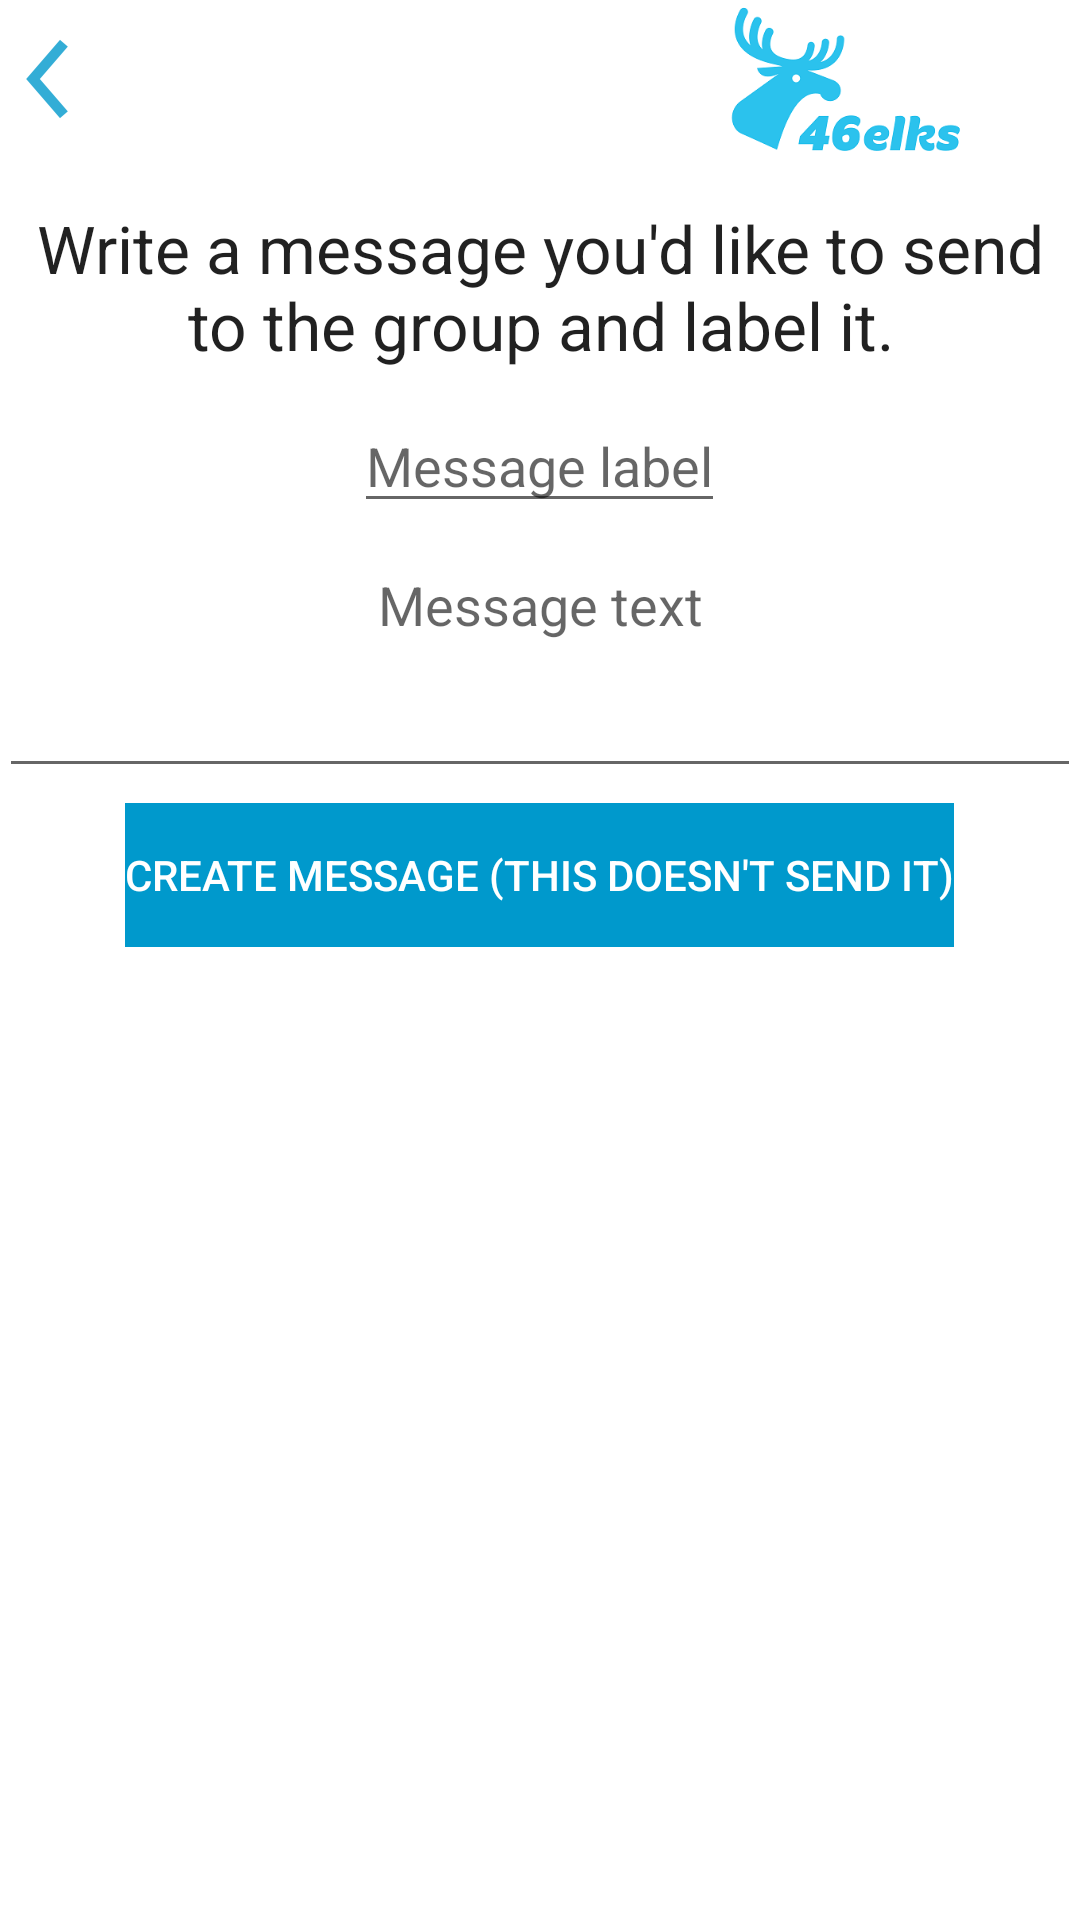

Icons on this 1080×1920 Android screen, each with the point to tap as [x,y]:
go back: [47,79]
